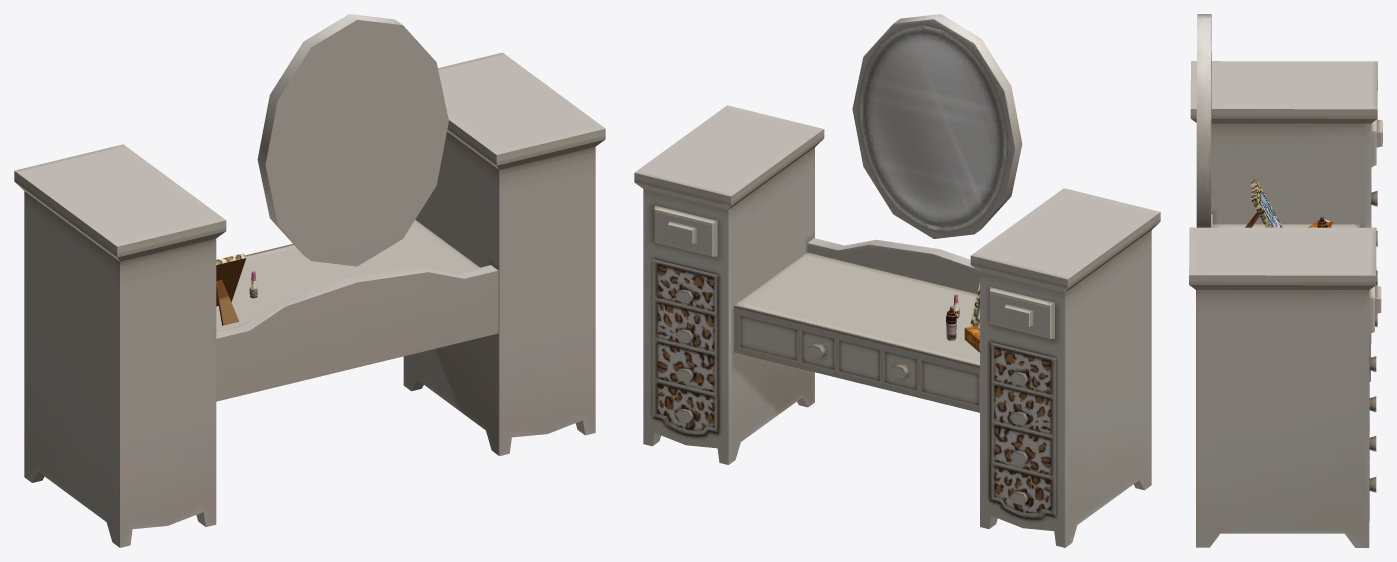
Rendered from furni_0200094.FBX.
3 renders of one model, left to right at view 1: azimuth 30°, elevation 25°; view 2: azimuth 150°, elevation 25°; view 3: azimuth 270°, elevation 25°, orthographic. The views are drawn at different scales.
Visible parts, largest first — view 1: furni_0200094; view 2: furni_0200094; view 3: furni_0200094.
Part boxes in pixels (x1,y1,x2,y2): furni_0200094: (14,14,605,547); furni_0200094: (634,14,1160,547); furni_0200094: (1189,14,1382,547).
Bounding box in the file's own units: 234 × 216 × 89.37.
